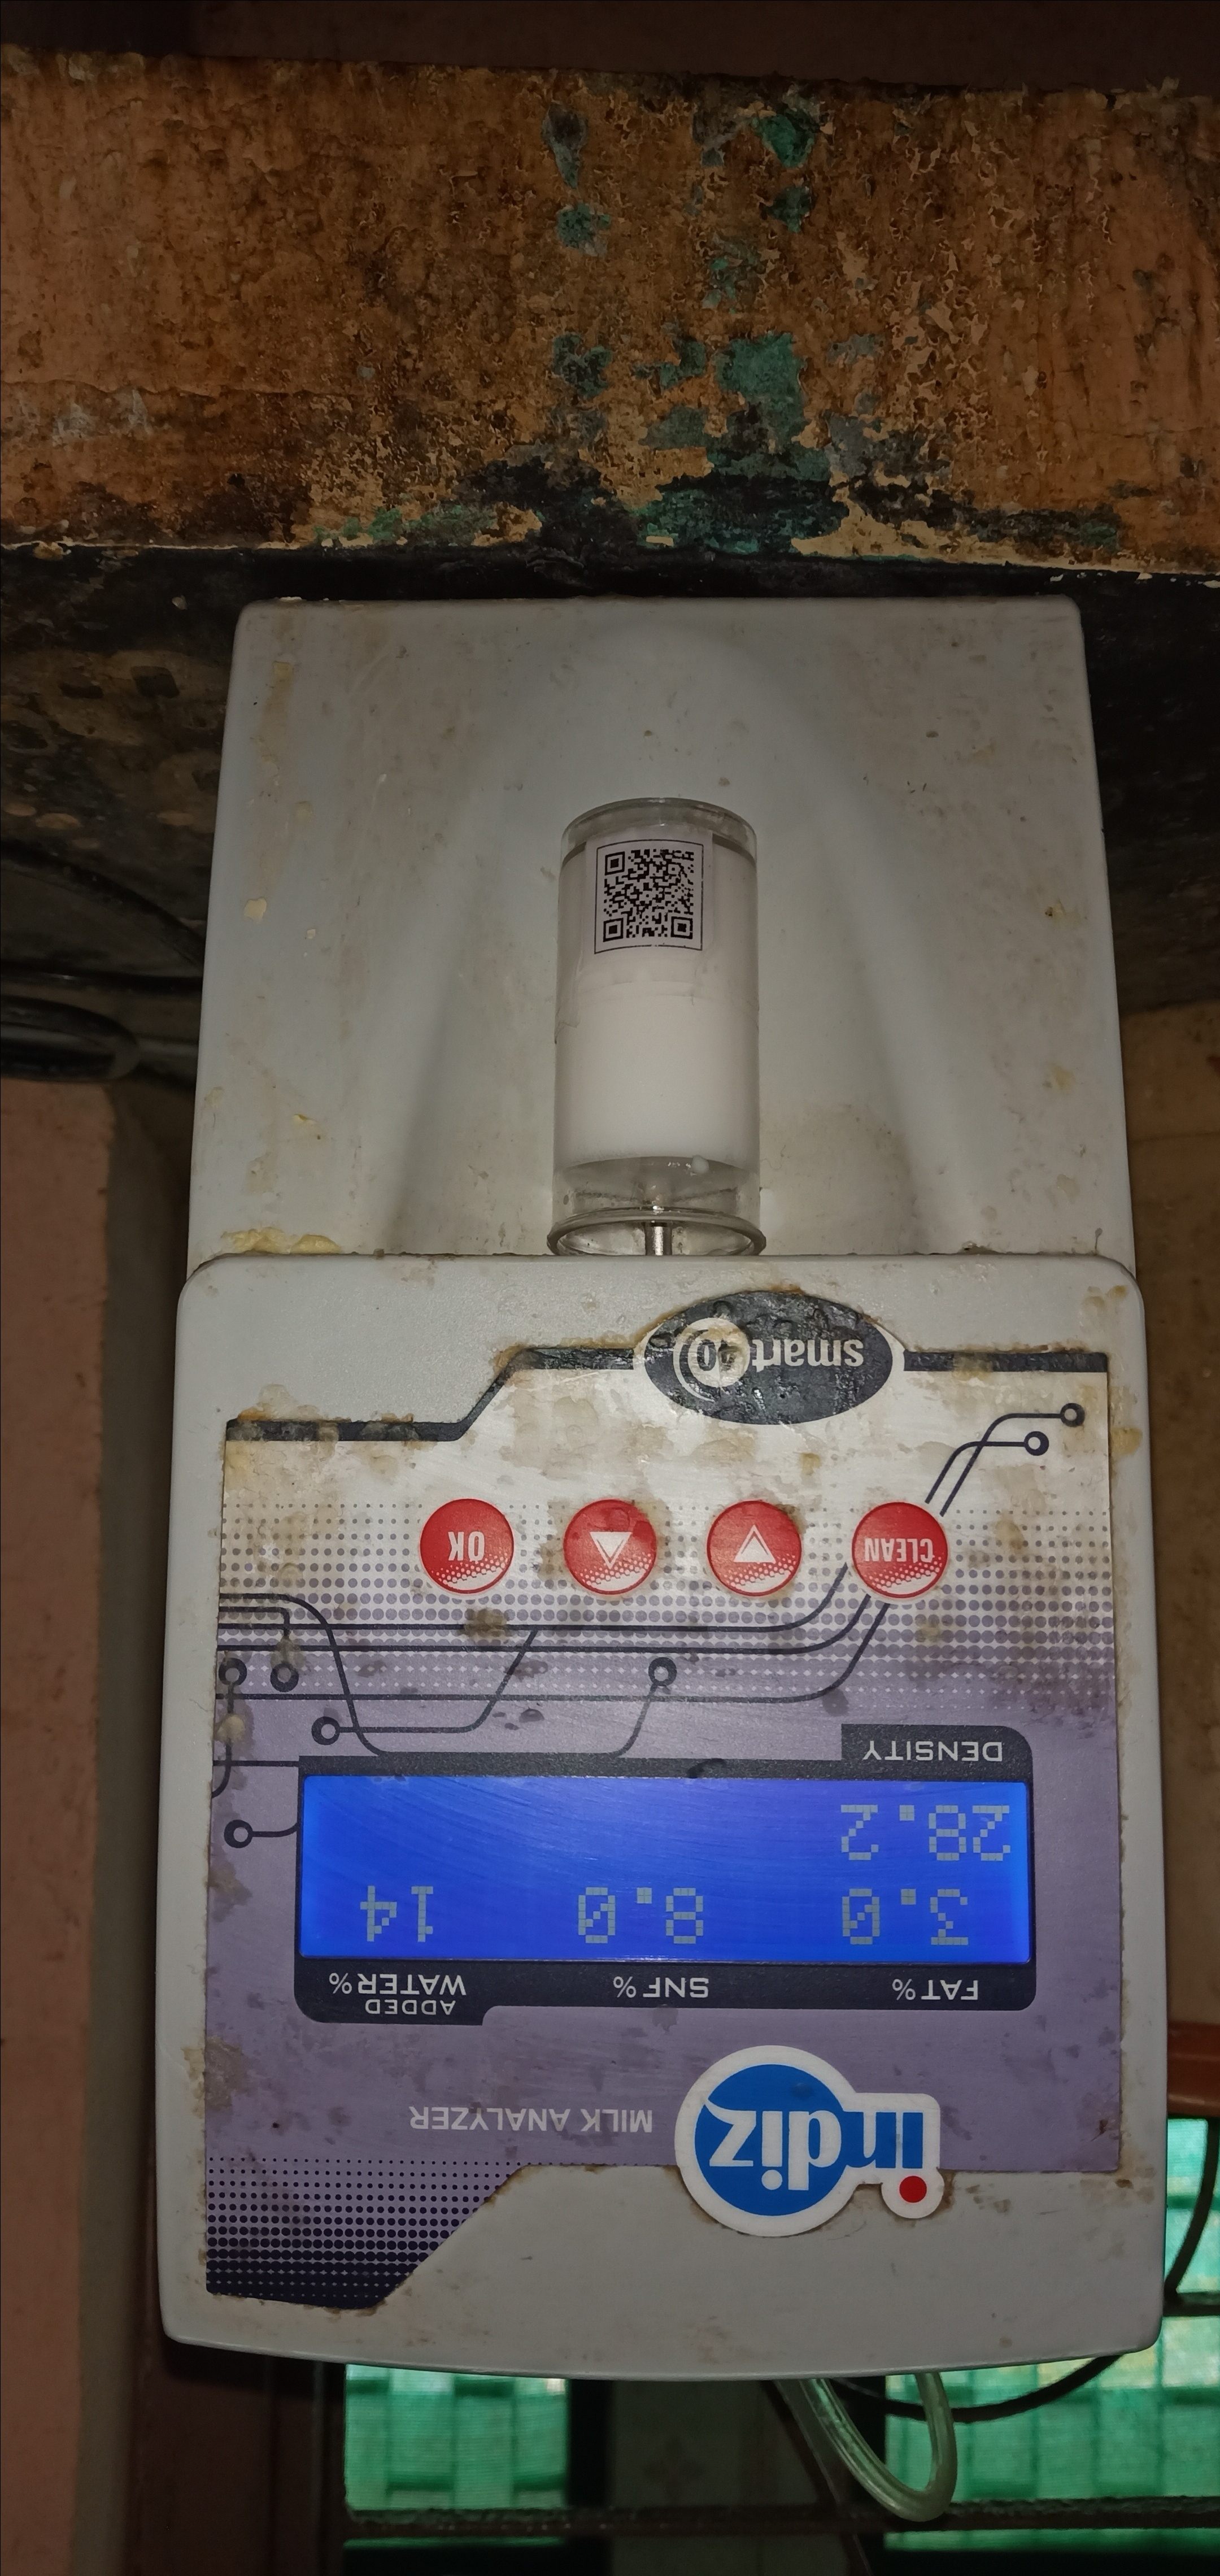lcd: (277, 1651, 1059, 2086)
qr: (583, 823, 745, 977)
